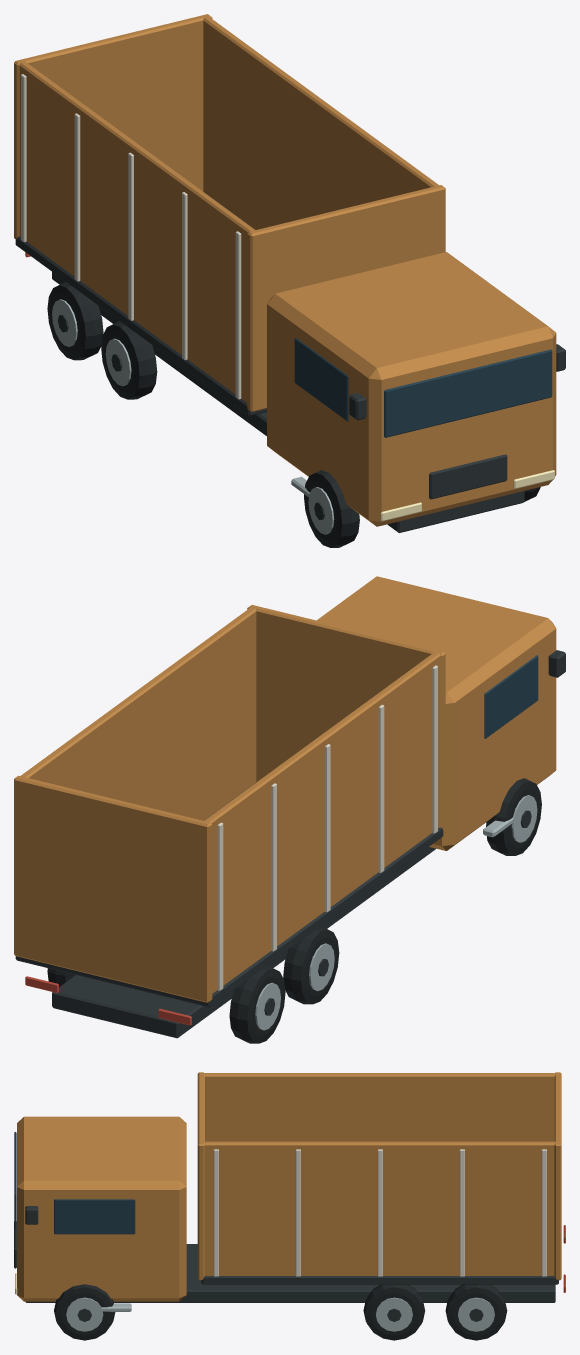
File: truck-heavy-dump-08.glb
3 views of the same model, one above another, from view 1: azimuth 30°, elevation 25°; view 2: azimuth 150°, elevation 25°; view 3: azimuth 270°, elevation 25° (orthographic). The views are drawn at different scales.
Parts seen in each view (by area): view 1: Cab, BedWall, BedWall.001, BedEnd.001, BedEnd, Glass_Windscreen, Chassis, BedFloor, CabWindow, Tyre_RR, Tyre_2R, Grille (+9 smaller); view 2: BedWall, BedEnd.001, BedWall.001, Cab, BedEnd, Chassis, BedFloor, CabWindow, Tyre_RR, Tyre_2R, Tyre_FR, BedRib.001 (+7 smaller); view 3: BedWall.001, Cab, BedWall, Chassis, BedFloor, CabWindow.001, Tyre_2L, Tyre_RL, Tyre_FL, BedEnd, BedEnd.001, Rim_FL (+7 smaller).
Part boxes in pixels (x1,y1,x2,y2): Cab: [267, 252, 556, 526]; BedWall: [19, 60, 255, 402]; BedWall.001: [203, 16, 439, 229]; BedEnd.001: [14, 14, 212, 239]; BedEnd: [247, 185, 445, 411]; Glass_Windscreen: [384, 349, 552, 437]; Chassis: [52, 272, 524, 532]; BedFloor: [15, 192, 266, 415]; CabWindow: [294, 337, 348, 421]; Tyre_RR: [101, 321, 157, 399]; Tyre_2R: [47, 282, 103, 360]; Grille: [429, 454, 507, 499]; BedWall: [204, 652, 440, 993]; BedEnd.001: [14, 775, 212, 1002]; BedWall.001: [21, 607, 256, 820]; Cab: [316, 576, 556, 850]; BedEnd: [247, 605, 445, 830]; Chassis: [52, 847, 435, 1038]; BedFloor: [15, 782, 443, 1007]; CabWindow: [484, 655, 538, 738]; Tyre_RR: [283, 926, 339, 1004]; Tyre_2R: [229, 965, 285, 1043]; Tyre_FR: [486, 778, 541, 855]; BedRib.001: [378, 704, 384, 872]; BedWall.001: [203, 1141, 555, 1275]; Cab: [17, 1116, 186, 1301]; BedWall: [203, 1073, 555, 1141]; Chassis: [25, 1244, 555, 1302]; BedFloor: [201, 1276, 558, 1284]; CabWindow.001: [54, 1199, 135, 1234]; Tyre_2L: [445, 1284, 507, 1340]; Tyre_RL: [363, 1284, 425, 1340]; Tyre_FL: [54, 1284, 115, 1340]; BedEnd: [197, 1072, 204, 1280]; BedEnd.001: [554, 1072, 561, 1280]; Rim_FL: [66, 1297, 103, 1331].
Bounding box in the file's own units: 3.12 × 3.65 × 9.28.
